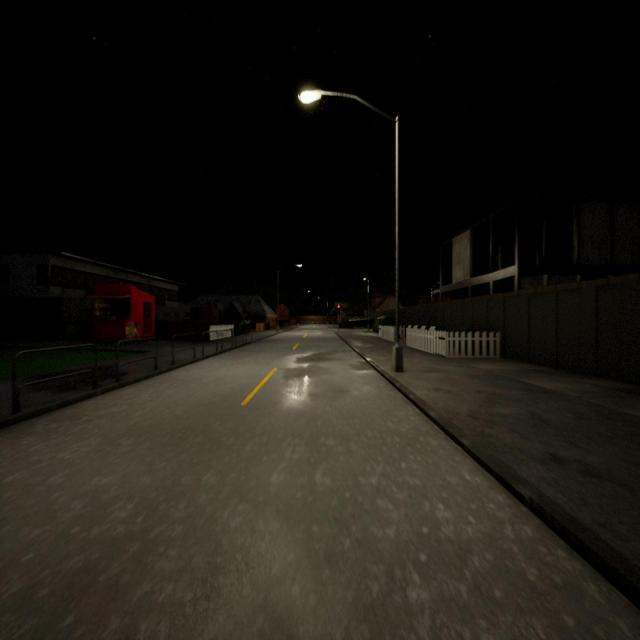Vehicle: (338, 316, 374, 329)
traffic_light: (337, 304, 340, 314)
